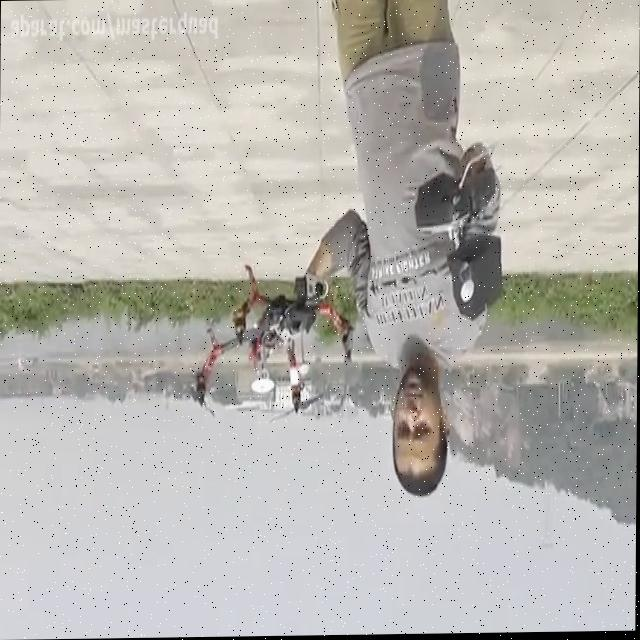drone: (181, 262, 355, 429)
